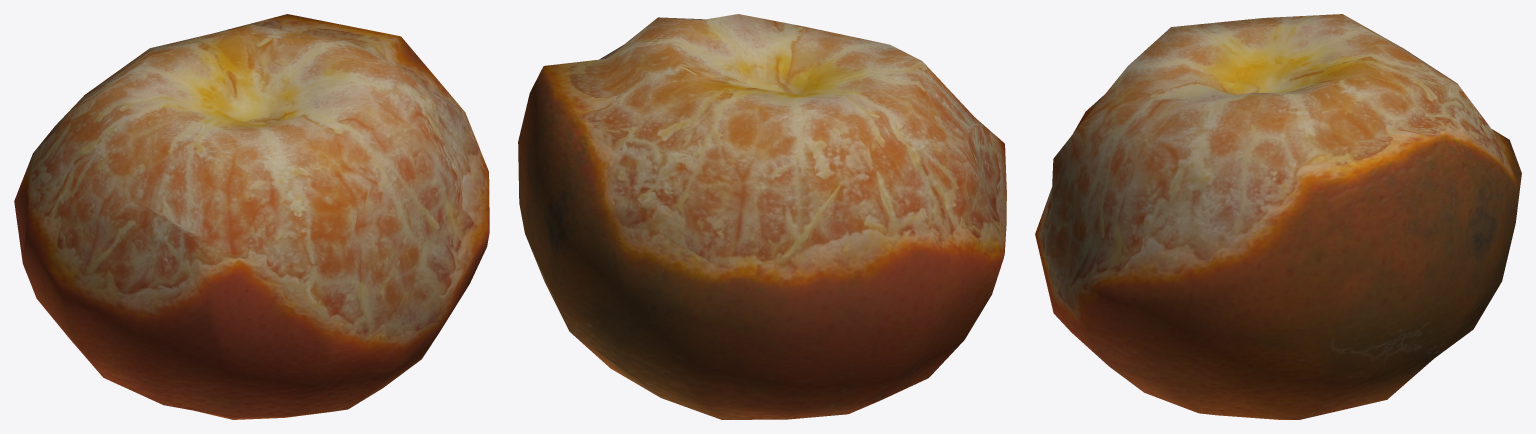
File: A66_Orange_Peeled_low.fbx
3 renders of one model, left to right at view 1: azimuth 30°, elevation 25°; view 2: azimuth 150°, elevation 25°; view 3: azimuth 270°, elevation 25°, orthographic. The views are drawn at different scales.
Parts seen in each view (by area): view 1: A66_Orange_Peeled_low; view 2: A66_Orange_Peeled_low; view 3: A66_Orange_Peeled_low.
Part boxes in pixels (bbox=[...]): A66_Orange_Peeled_low: bbox=[14, 14, 489, 419]; A66_Orange_Peeled_low: bbox=[518, 14, 1006, 419]; A66_Orange_Peeled_low: bbox=[1035, 14, 1521, 419].
Size of the model in its own units: 7.55 by 7.18 by 5.27.
Materials: 1 (1 with a texture image).
